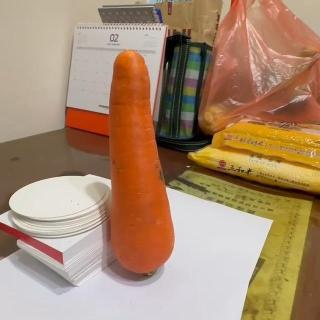carrot: (106, 49, 176, 279)
